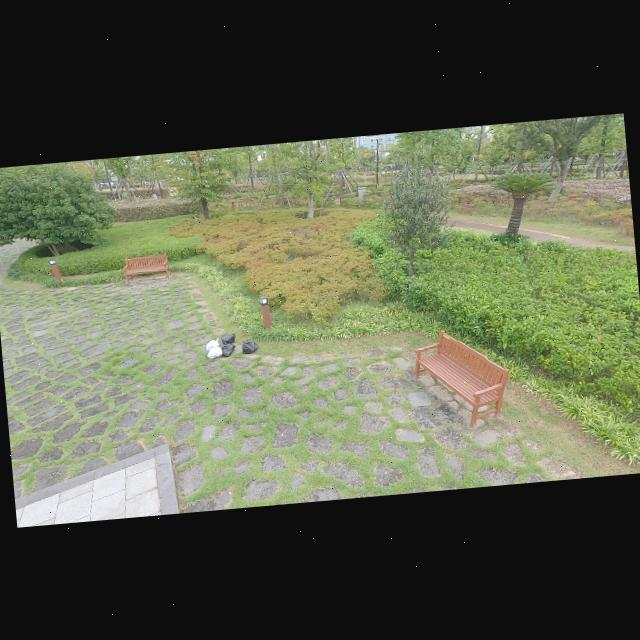trash: (240, 338, 258, 355), (220, 342, 237, 358), (202, 338, 220, 352), (206, 346, 223, 359), (219, 332, 237, 344)
